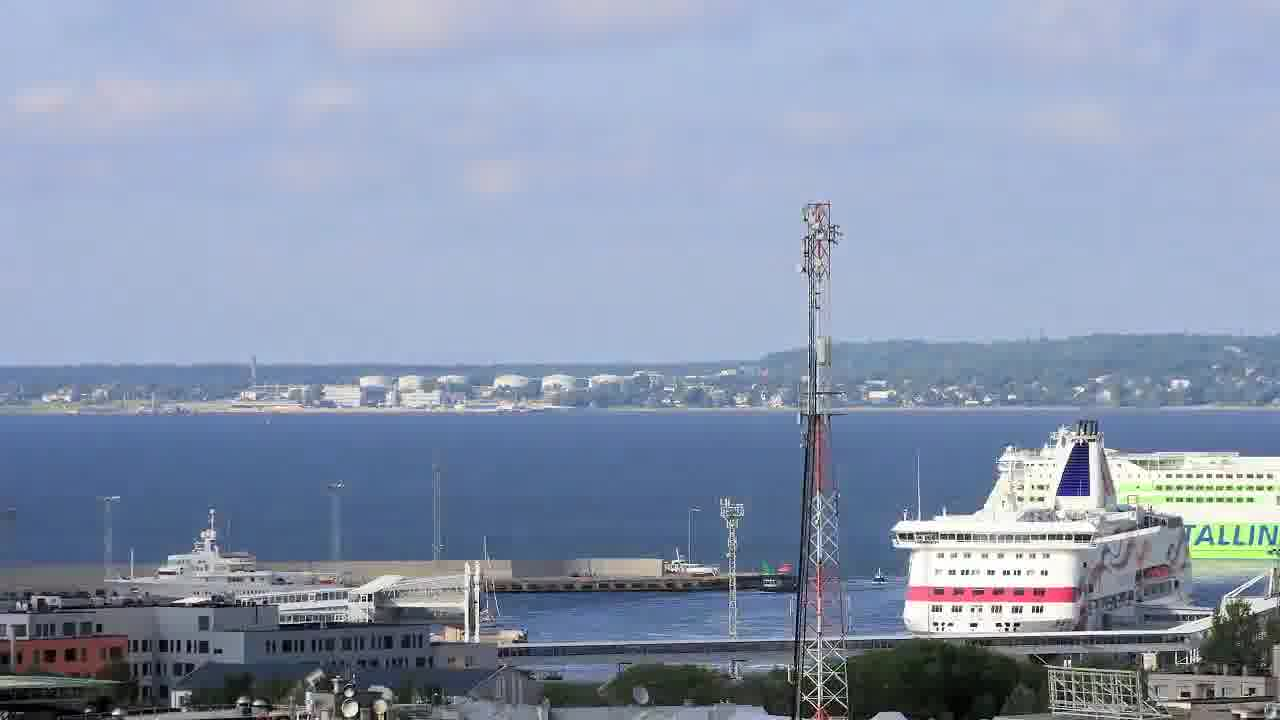type-0: (761, 558, 807, 599)
type-3: (868, 415, 1225, 638), (1050, 427, 1279, 574), (84, 511, 353, 609)
